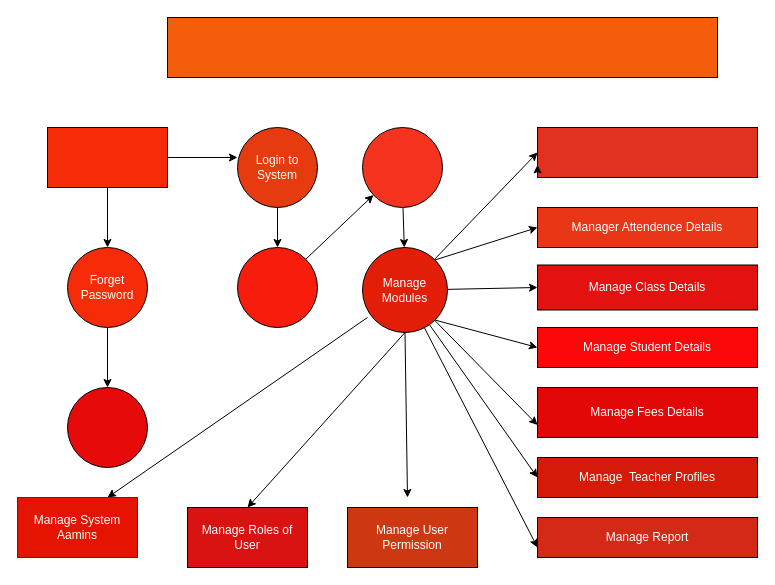
Some shapes in this 775 by 585 pixel diagram are drawn without their labels. Here are the shapes that lost their labels. From the top down, the centre of each, then its label:
At point 442,47: "Student Information System".
At point 107,157: "Admin".
At point 402,167: "Check Roles of Acess".
At point 647,152: "Manage Timetable Details".
At point 277,287: "Check Credentials".
At point 107,427: "Send Email to User".
